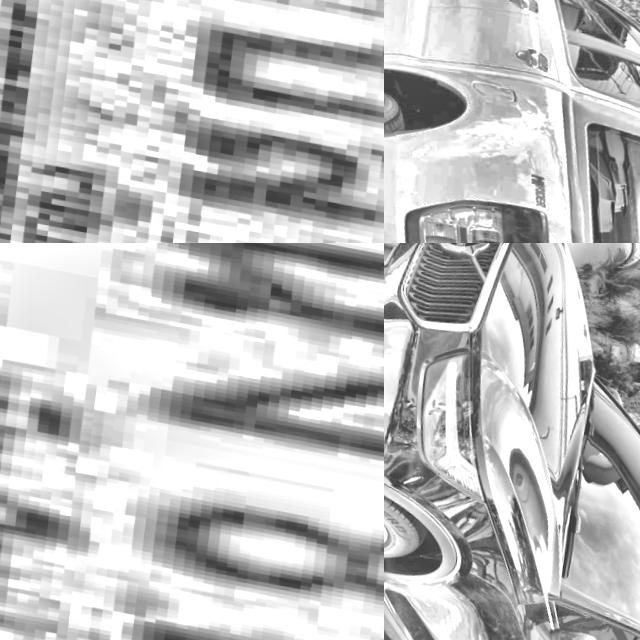license-plate: (0, 243, 384, 640), (0, 0, 384, 243)
